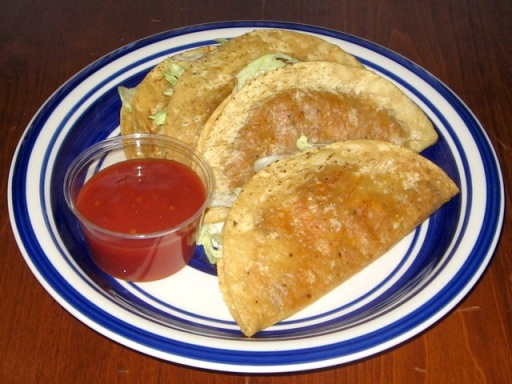background: (60, 17, 368, 202)
